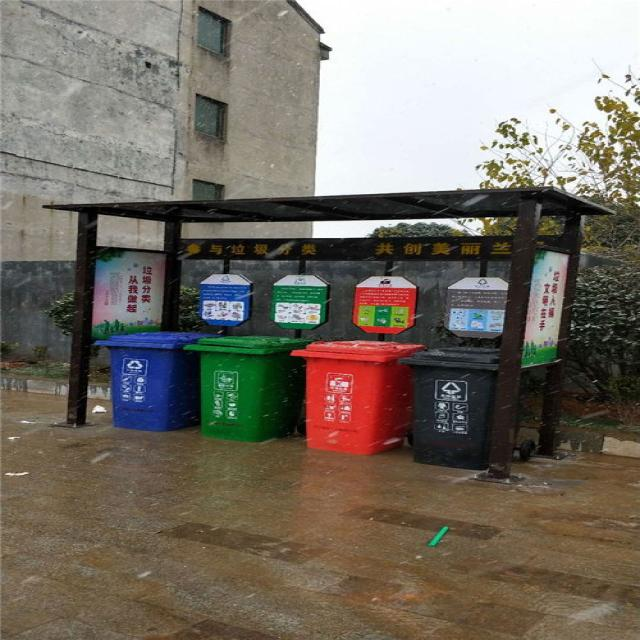garbage_bin: (289, 340, 426, 454), (183, 335, 314, 441), (92, 331, 219, 432), (398, 346, 499, 470)
